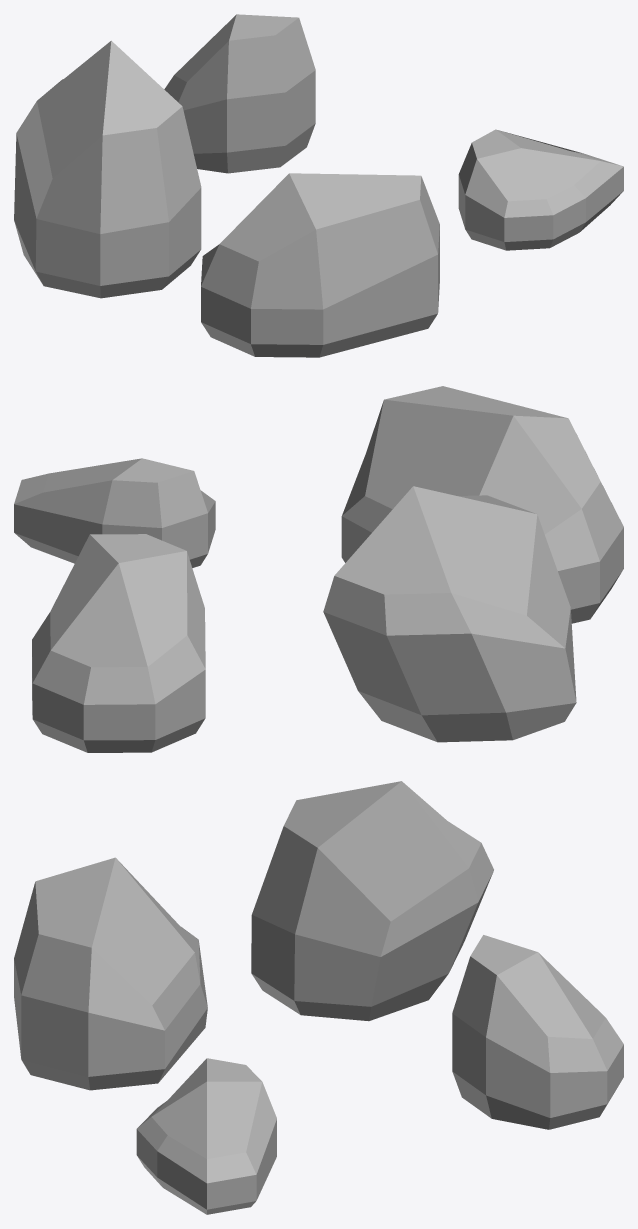
Rendered from pebbles1.glb.
3 views of the same model, one above another, from view 1: azimuth 30°, elevation 25°; view 2: azimuth 150°, elevation 25°; view 3: azimuth 270°, elevation 25° (orthographic). The views are drawn at different scales.
Parts seen in each view (by area): view 1: Pebbles.001; view 2: Pebbles.001; view 3: Pebbles.001.
Part boxes in pixels (<box>): Pebbles.001: <box>14,14,623,357</box>; Pebbles.001: <box>14,386,623,752</box>; Pebbles.001: <box>14,781,623,1214</box>.
Bounding box in the file's own units: 0.8957 × 0.3218 × 0.8205.
1 material, 1 textured.
